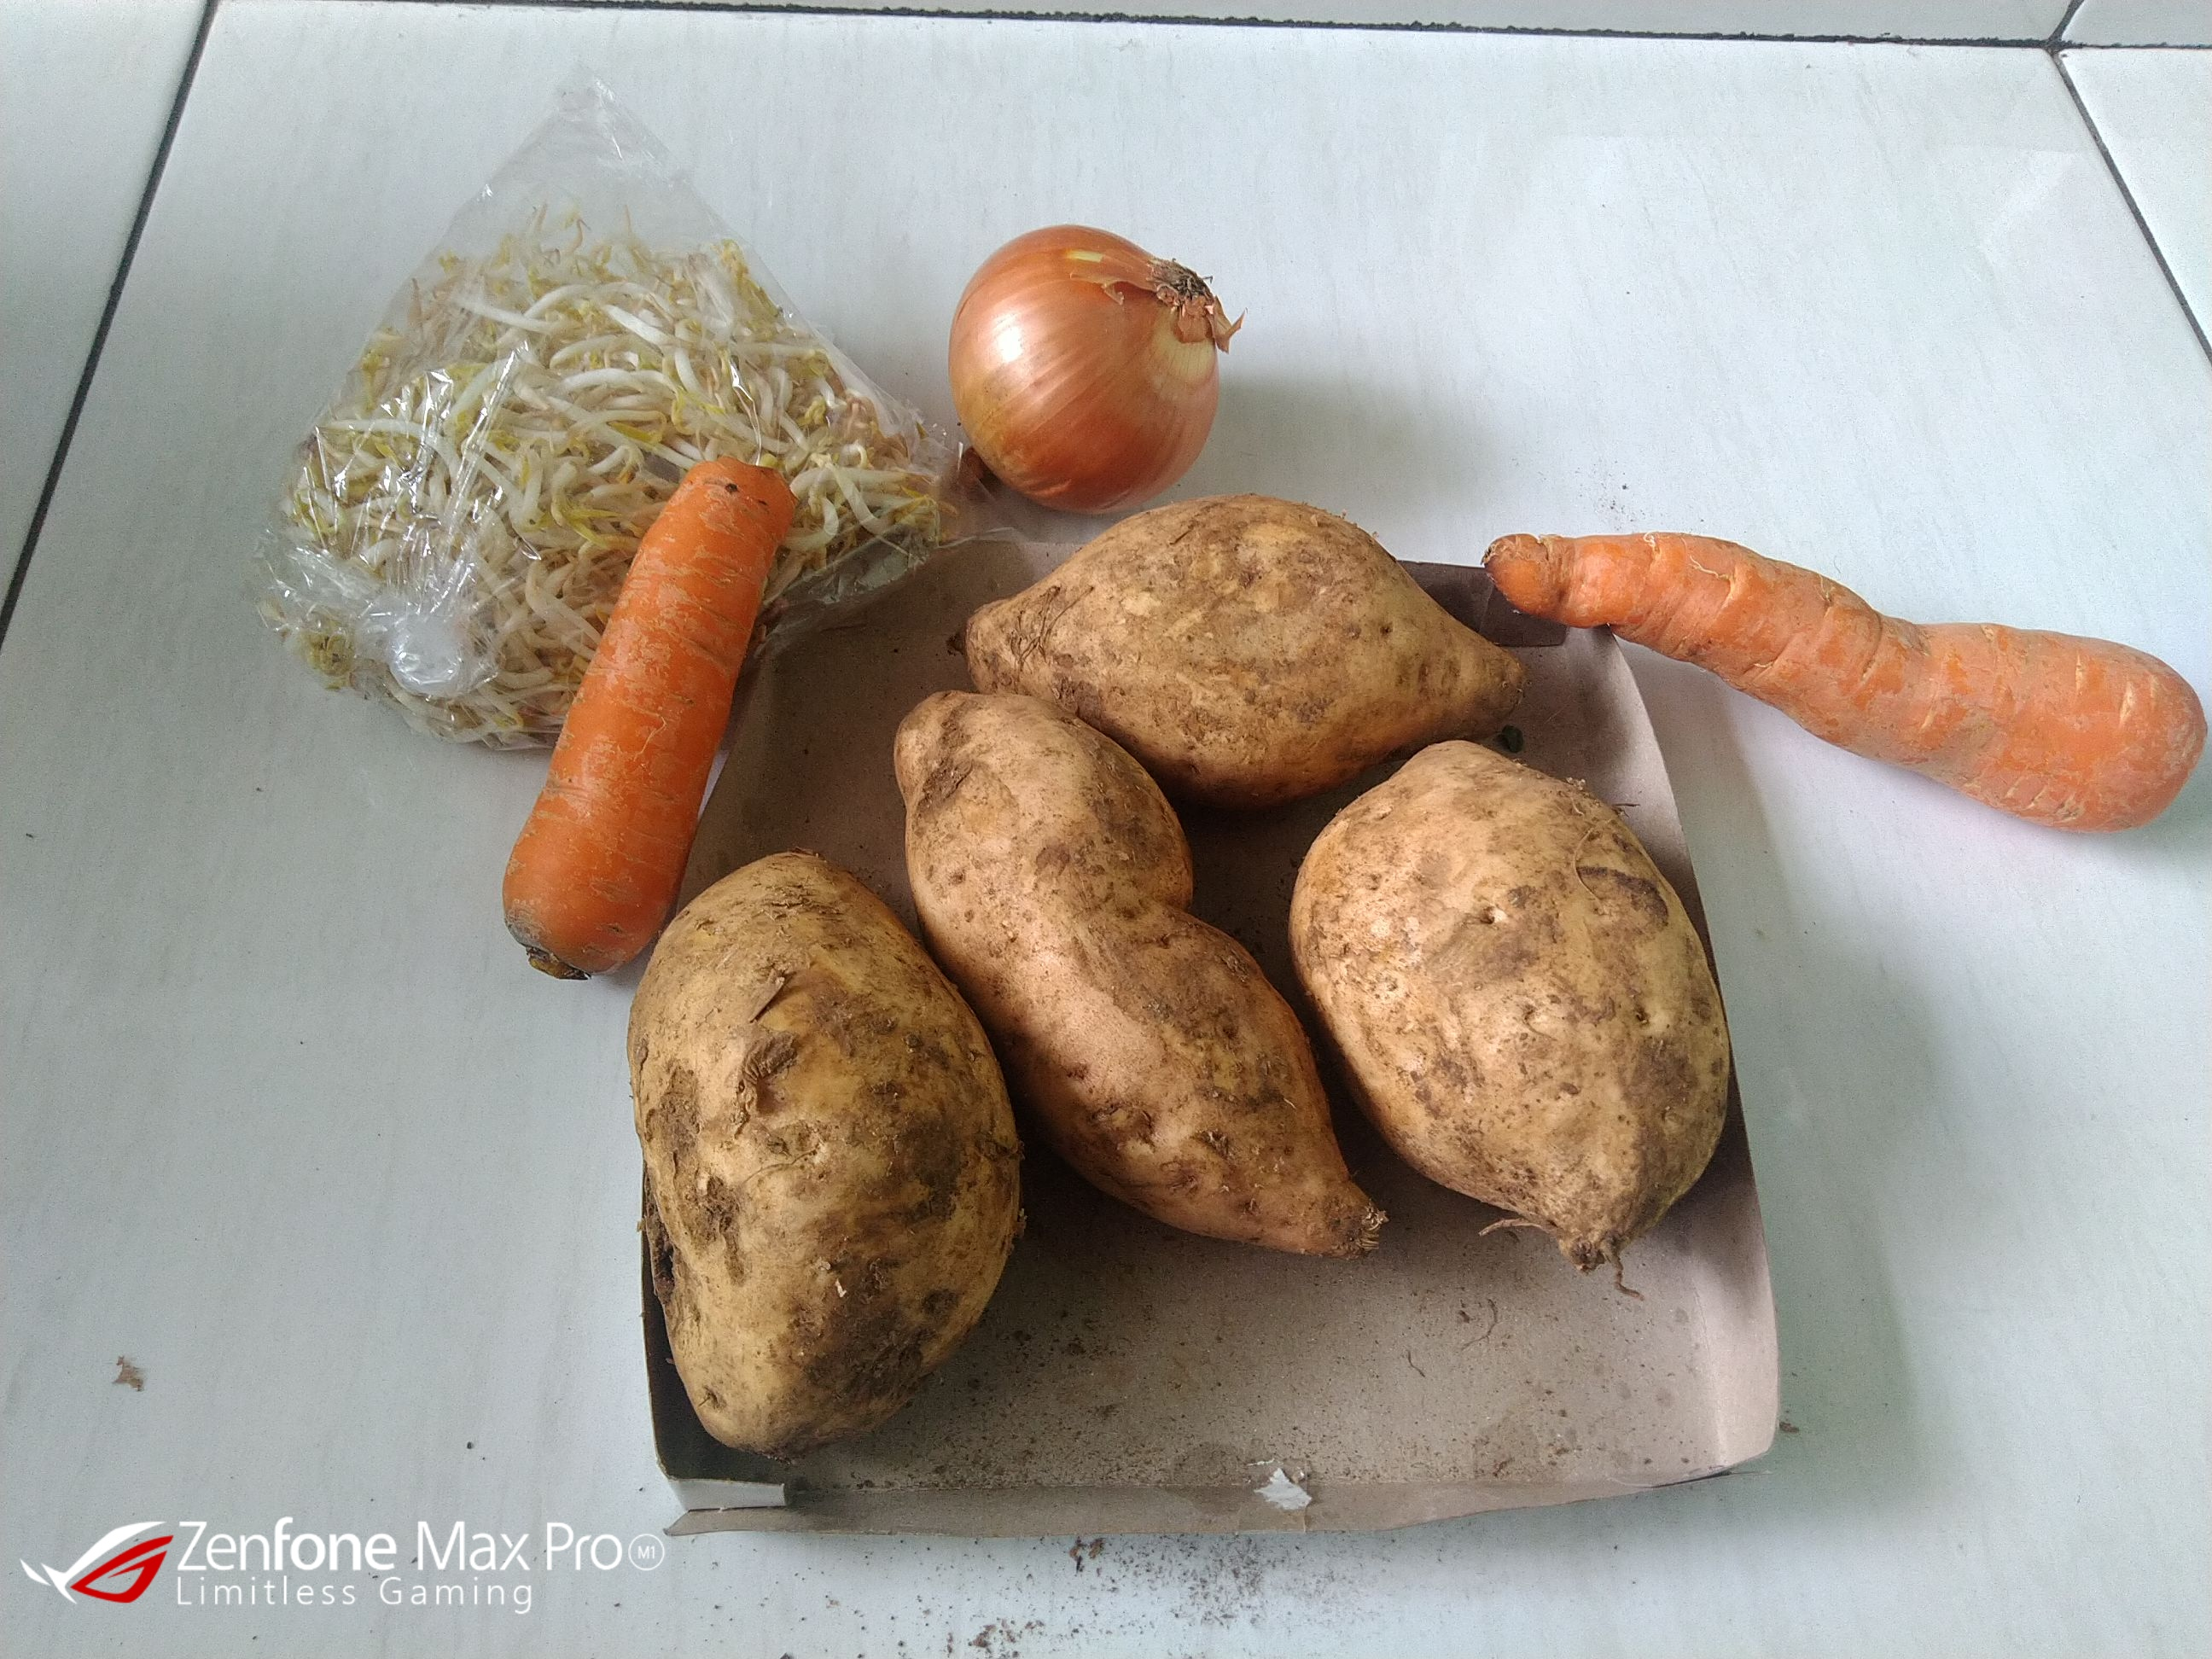ubi kuning: (883, 685, 1402, 1283), (1268, 737, 1738, 1298), (624, 840, 1035, 1481), (970, 498, 1526, 772)
